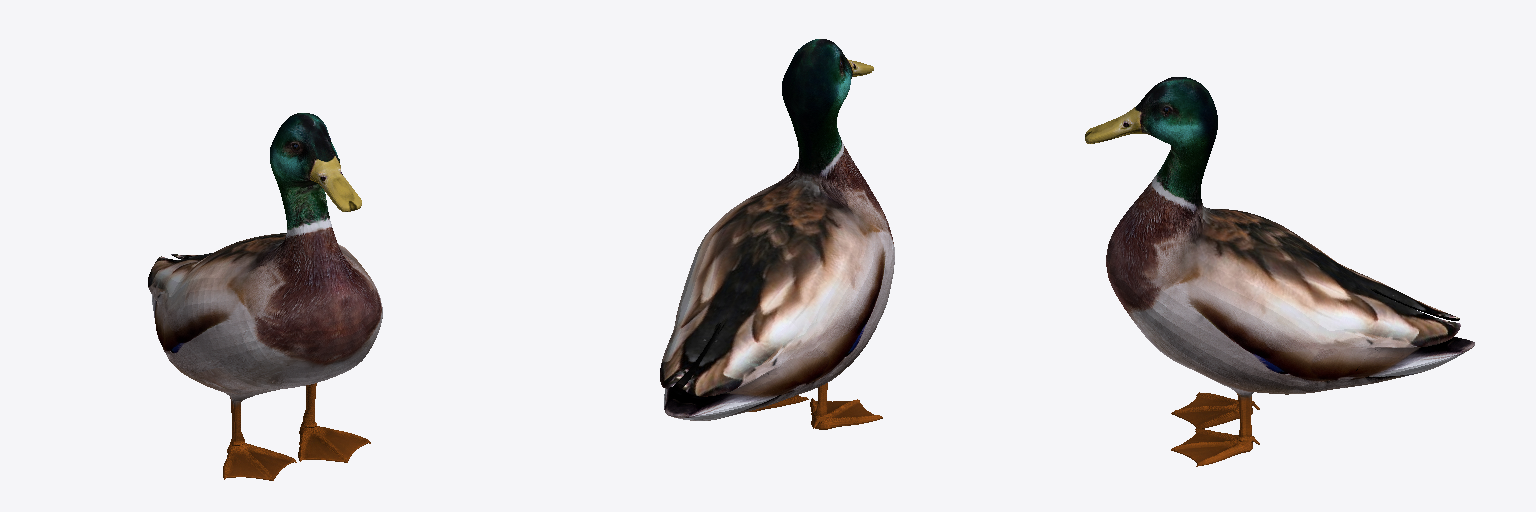
3 renders of one model, left to right at view 1: azimuth 30°, elevation 25°; view 2: azimuth 150°, elevation 25°; view 3: azimuth 270°, elevation 25°, orthographic.
Visible parts, largest first — view 1: 12248_Bird_v1_L2; view 2: 12248_Bird_v1_L2; view 3: 12248_Bird_v1_L2.
Boxes of the visible parts, <box> form: 12248_Bird_v1_L2: <box>148,113,382,480</box>; 12248_Bird_v1_L2: <box>660,39,894,429</box>; 12248_Bird_v1_L2: <box>1085,77,1474,466</box>.
Bounding box in the file's own units: 0.0874 × 0.1734 × 0.1735.
1 materials, 1 textured.